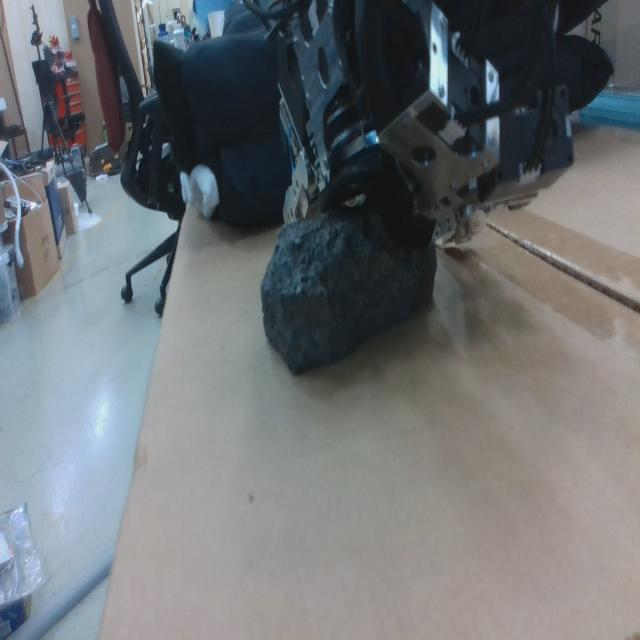stone: (260, 207, 440, 377)
